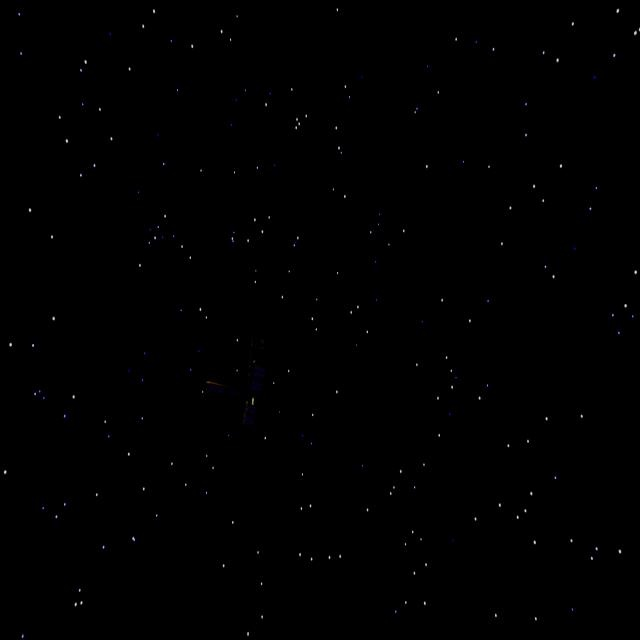medium_debris: (201, 330, 295, 430)
